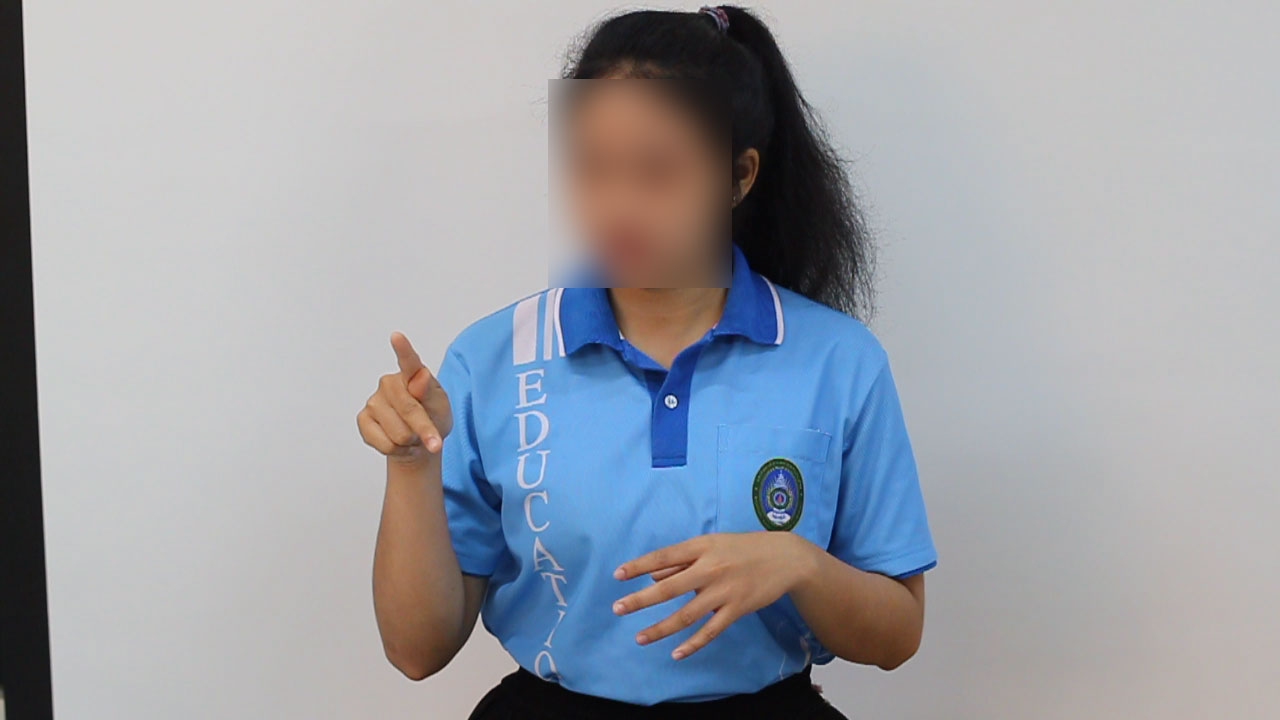por: (343, 312, 466, 485)
